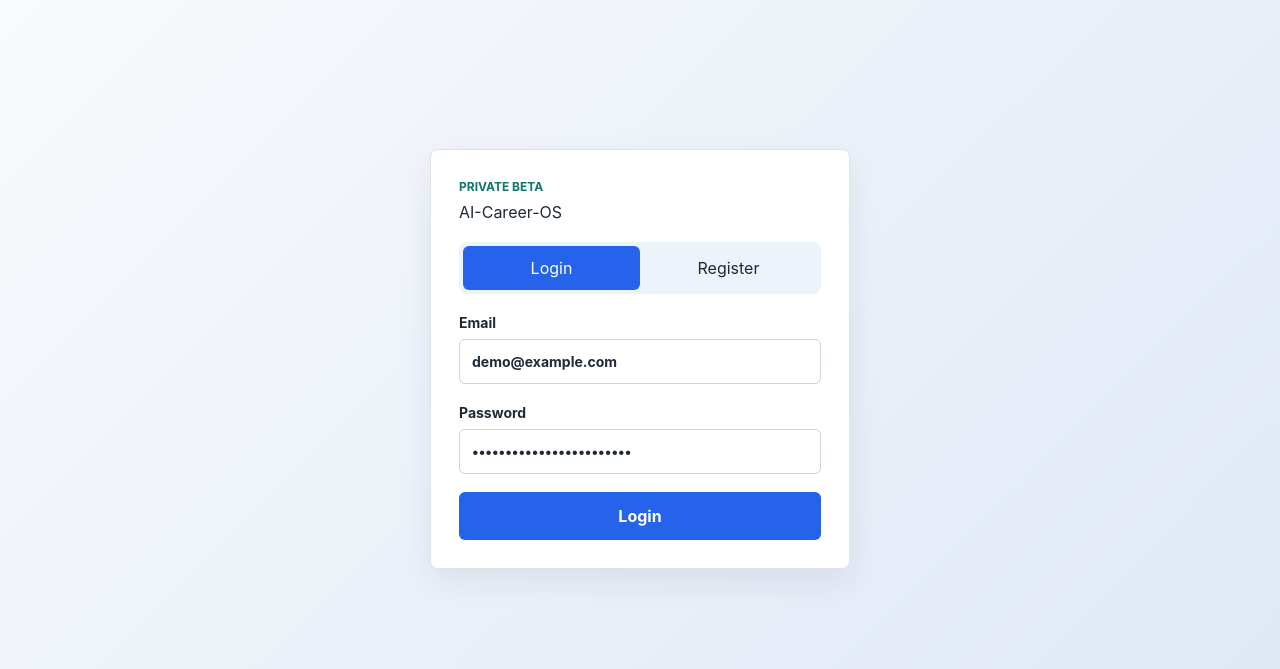
App › logs in and renders the dashboard intake wizard
Click the 2nd button "Login" at x=640, y=516, box [459,492,821,540]
(page scrolled)
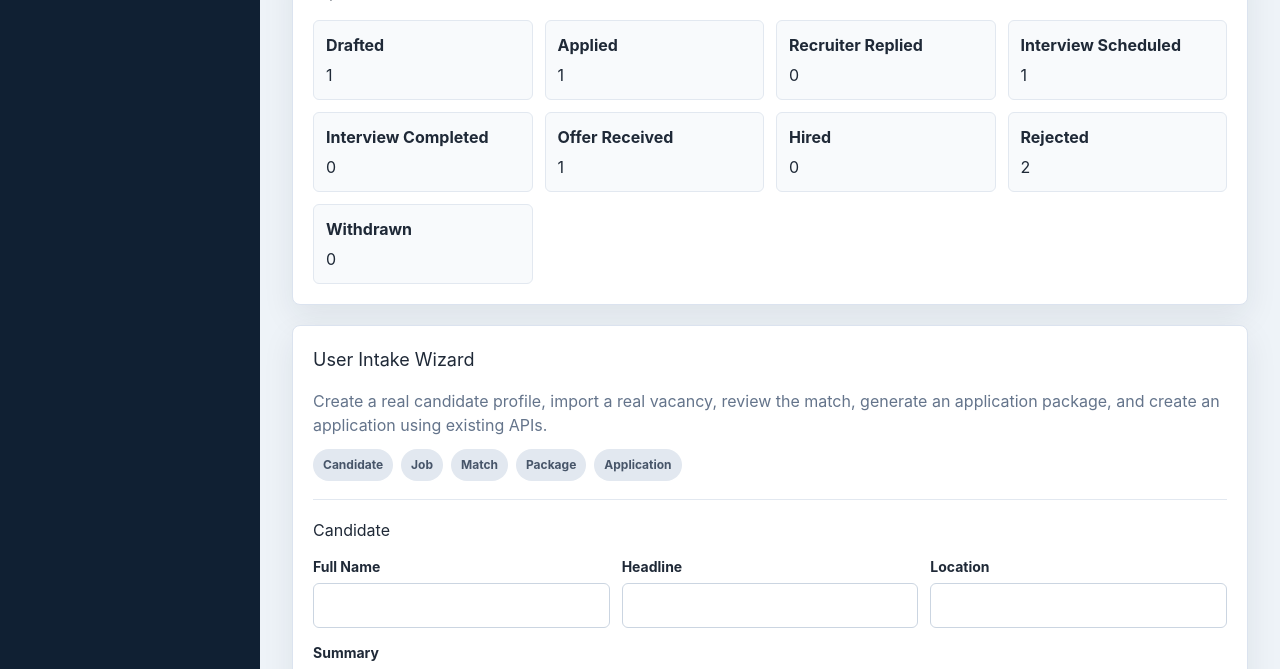
Check: the heading "User Intake Wizard" is shown, box [313,348,474,370]
